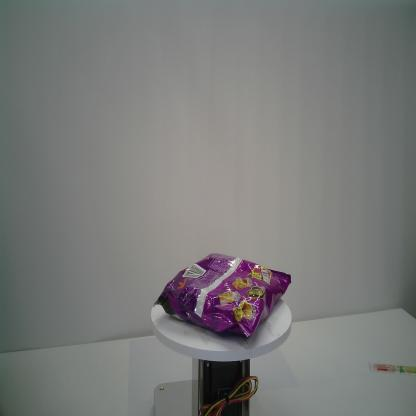Instant Noodles: (152, 252, 292, 338)
